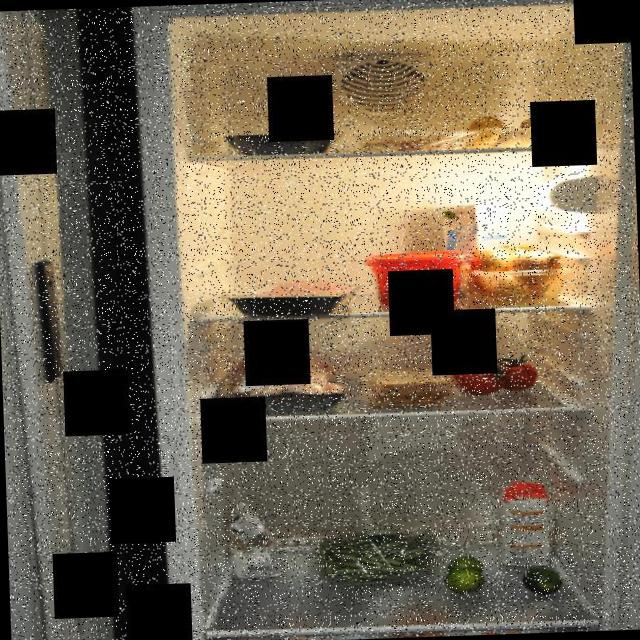Carne pollo: (219, 352, 343, 407)
Cebolla: (465, 240, 565, 304)
Gambas/Langostinos: (372, 129, 469, 154)
Leche: (439, 200, 508, 298)
Mantequilla: (366, 248, 468, 306)
Patata: (452, 114, 551, 152)
Tomate: (450, 353, 540, 396)
